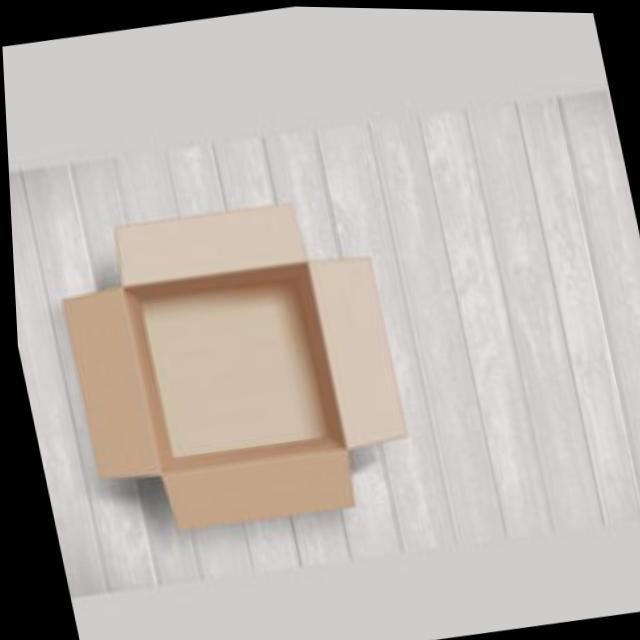box: (31, 164, 465, 565)
